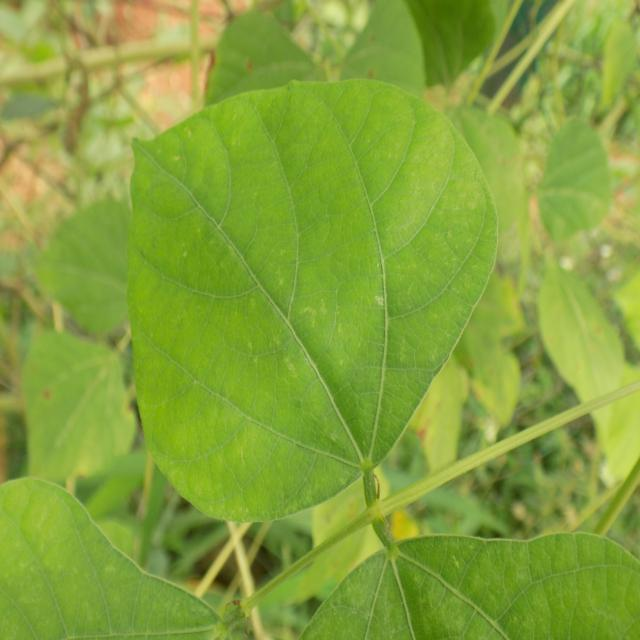Dolicos bean_healthy: (124, 81, 493, 518)
